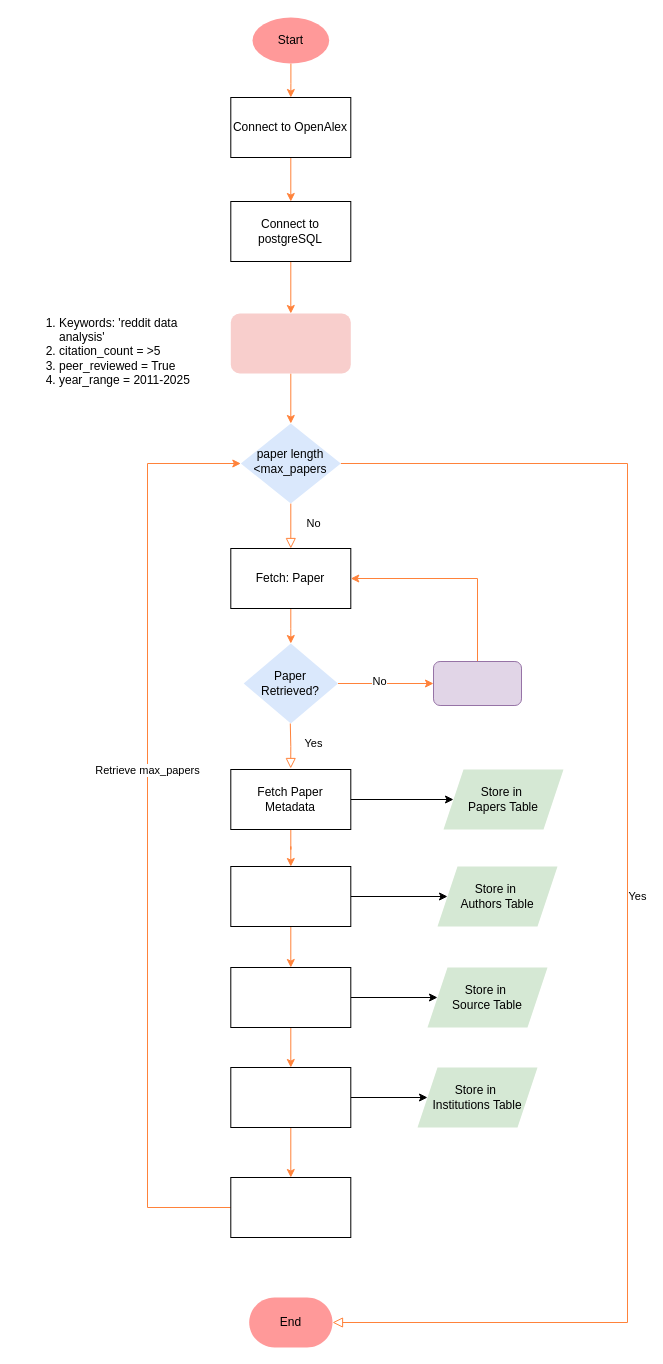
This 663x1364 diagram has some shape labels left out. The box of each missing label's shape, as (x1, y1, x2, y2) in pixels:
Debug: (432, 660, 522, 706)
Fetch Author Metadata: (230, 866, 351, 926)
Fetch Institution Metadata: (230, 1066, 351, 1128)
Fetch Source Metadata: (230, 966, 351, 1028)
m+=1: (230, 1176, 351, 1238)
While: (230, 313, 350, 373)
